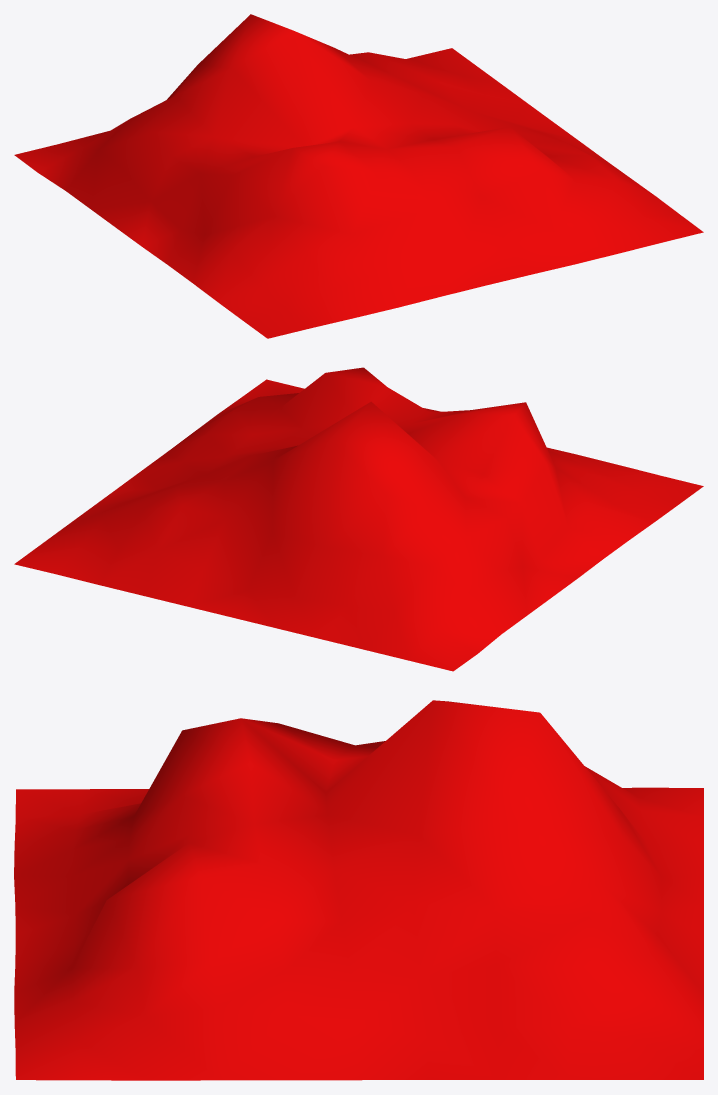
File: Snowpile.fbx
3 views of the same model, one above another, from view 1: azimuth 30°, elevation 25°; view 2: azimuth 150°, elevation 25°; view 3: azimuth 270°, elevation 25° (orthographic). The views are drawn at different scales.
Visible parts, largest first — view 1: Snowpile_MESH; view 2: Snowpile_MESH; view 3: Snowpile_MESH.
Part boxes in pixels (box(x1,y1,x2,y2)): Snowpile_MESH: box(14, 14, 703, 338); Snowpile_MESH: box(14, 367, 703, 671); Snowpile_MESH: box(14, 700, 703, 1080).
Bounding box in the file's own units: 2.01 × 0.6673 × 2.
